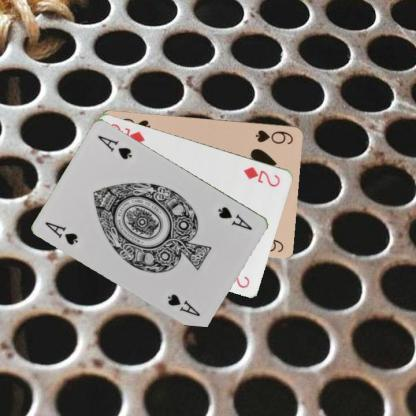2d: (241, 164, 282, 188)
6s: (253, 127, 295, 146)
As: (216, 204, 254, 232), (42, 219, 80, 247)
